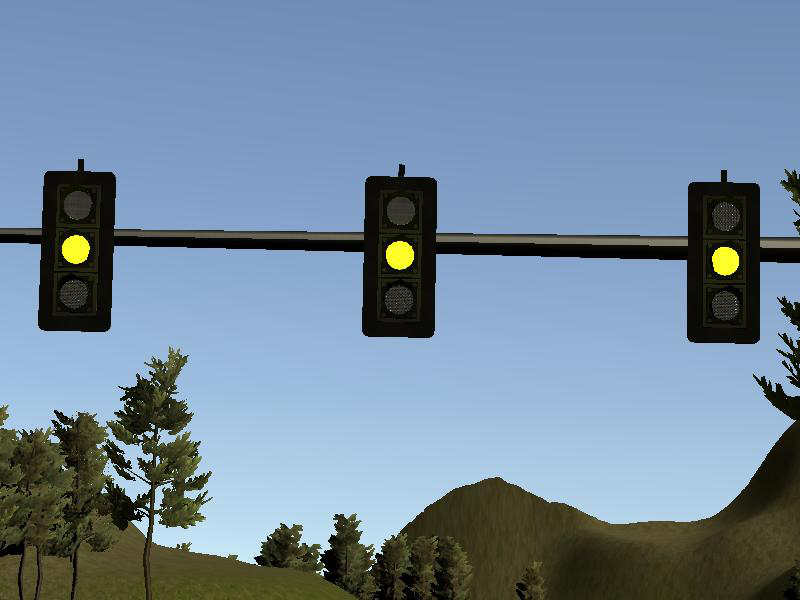yellow: (38, 172, 115, 331), (688, 180, 762, 344), (362, 175, 436, 337)
